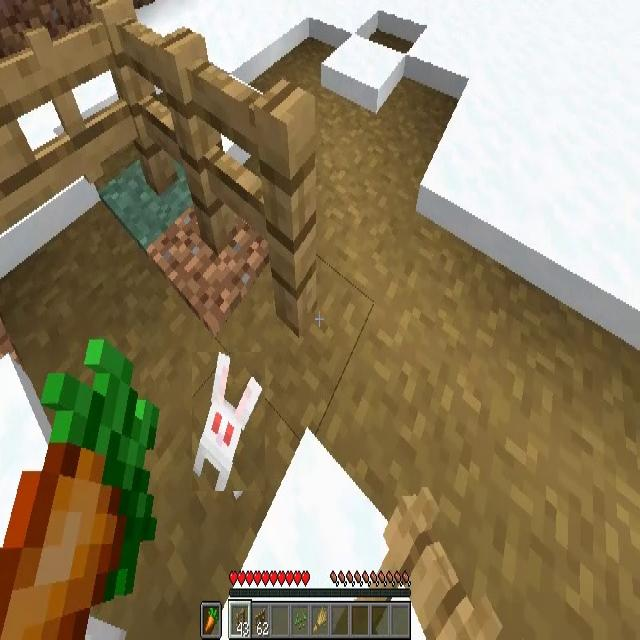rabbit: (192, 352, 265, 491)
